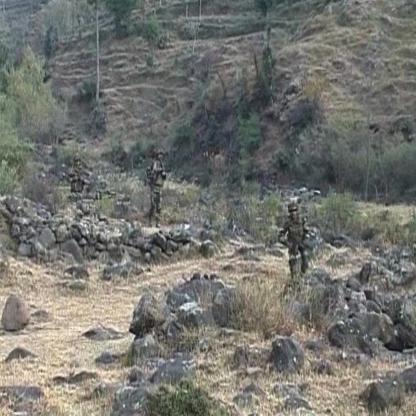face: (291, 209, 297, 218), (158, 152, 164, 159), (76, 159, 82, 166)
